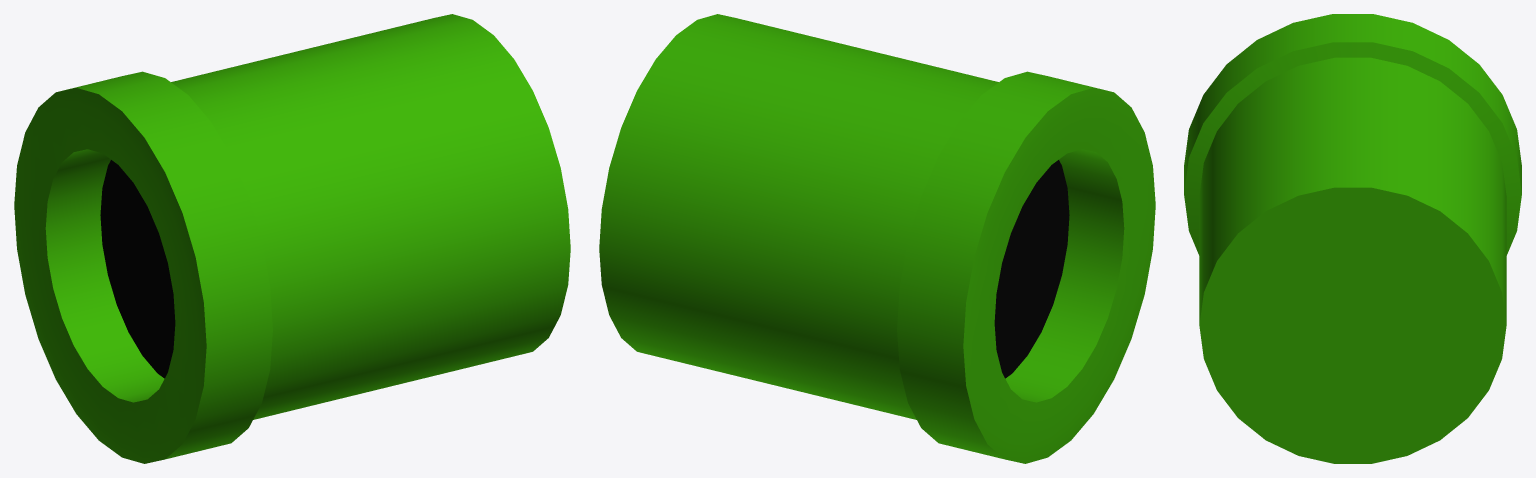
Rendered from PipeModel.fbx.
3 renders of one model, left to right at view 1: azimuth 30°, elevation 25°; view 2: azimuth 150°, elevation 25°; view 3: azimuth 270°, elevation 25°, orthographic. The views are drawn at different scales.
Visible parts, largest first — view 1: Cylinder, Cylinder.001; view 2: Cylinder, Cylinder.001; view 3: Cylinder.
Boxes of the visible parts, bbox=[...] form: Cylinder: bbox=[14, 14, 570, 463]; Cylinder.001: bbox=[100, 160, 175, 378]; Cylinder: bbox=[599, 14, 1155, 463]; Cylinder.001: bbox=[994, 160, 1069, 378]; Cylinder: bbox=[1184, 14, 1521, 463].
Size of the model in its own units: 247 by 218 by 220.
